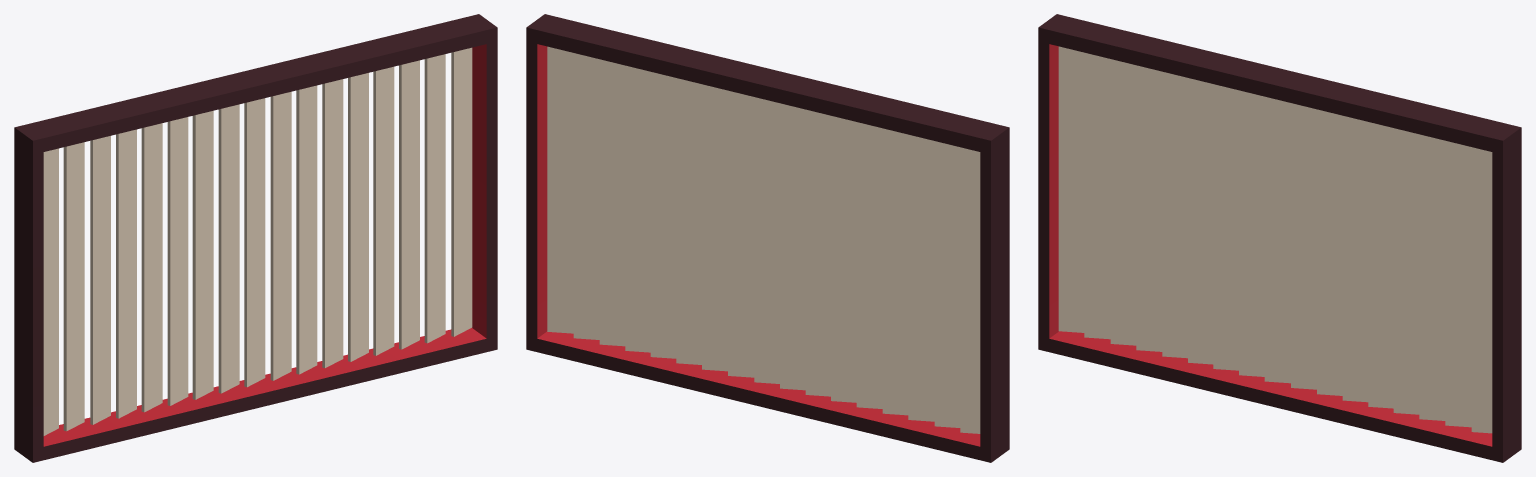
Rendered from postoffice_curtainwindow.fbx.
3 views of the same model, side by side, from view 1: azimuth 30°, elevation 25°; view 2: azimuth 150°, elevation 25°; view 3: azimuth 330°, elevation 25° (orthographic).
Visible parts, largest first — view 1: polySurface898; view 2: polySurface898; view 3: polySurface898.
Boxes of the visible parts, left/top/right/bottom form: polySurface898: left=14, top=14, right=497, bottom=462; polySurface898: left=526, top=14, right=1009, bottom=462; polySurface898: left=1038, top=14, right=1521, bottom=462.
Size of the model in its own units: 16.77 by 11.11 by 1.15.
Materials: 1 (1 with a texture image).
